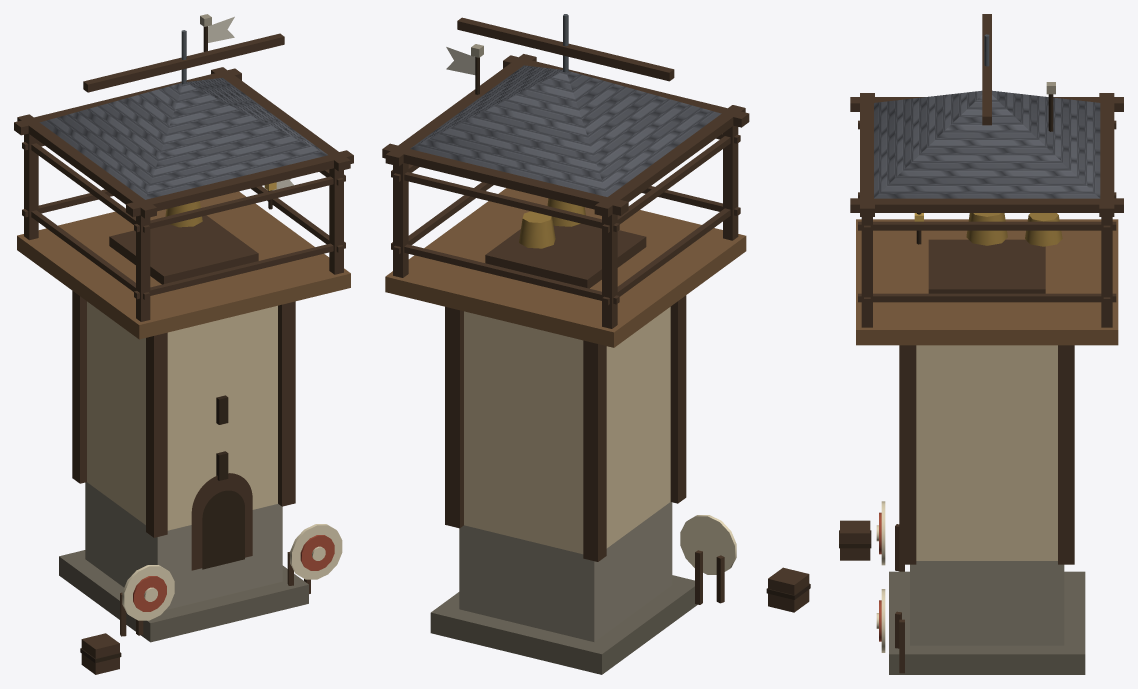
Rendered from tower-L3.glb.
3 views of the same model, side by side, from view 1: azimuth 30°, elevation 25°; view 2: azimuth 150°, elevation 25°; view 3: azimuth 270°, elevation 25° (orthographic). The views are drawn at different scales.
Visible parts, largest first — view 1: building-tower-L3; view 2: building-tower-L3; view 3: building-tower-L3.
Part boxes in pixels (x1,y1,x2,y2): building-tower-L3: (14, 14, 353, 674); building-tower-L3: (382, 14, 810, 674); building-tower-L3: (839, 14, 1123, 674).
Bounding box in the file's own units: 1.76 × 3.5 × 1.51.
Materials: 14 (1 with a texture image).
